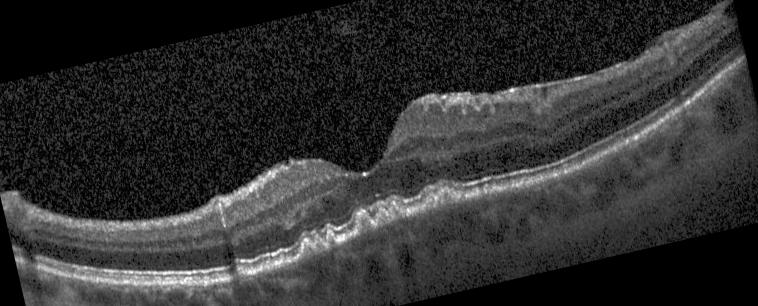retinal_drusen: (297, 241, 317, 264), (358, 212, 374, 234), (377, 209, 394, 227), (235, 268, 254, 282), (426, 196, 439, 209), (439, 190, 452, 203), (391, 206, 402, 221), (315, 238, 326, 252), (262, 261, 273, 273), (327, 233, 335, 246), (279, 261, 291, 268), (256, 270, 263, 275)
